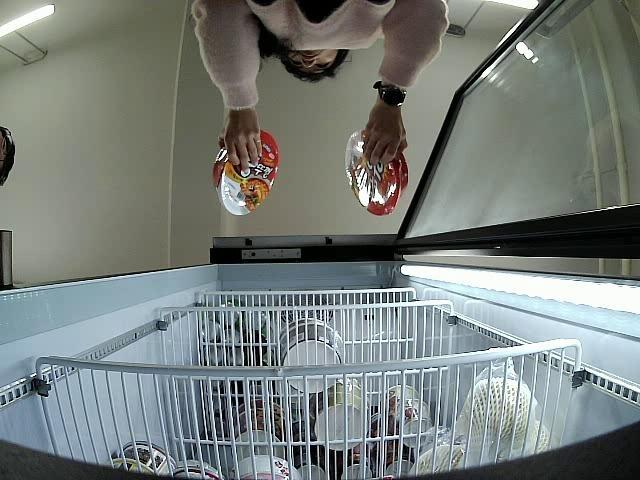10_wangTtukkeong: (344, 129, 409, 218), (212, 132, 278, 215)
